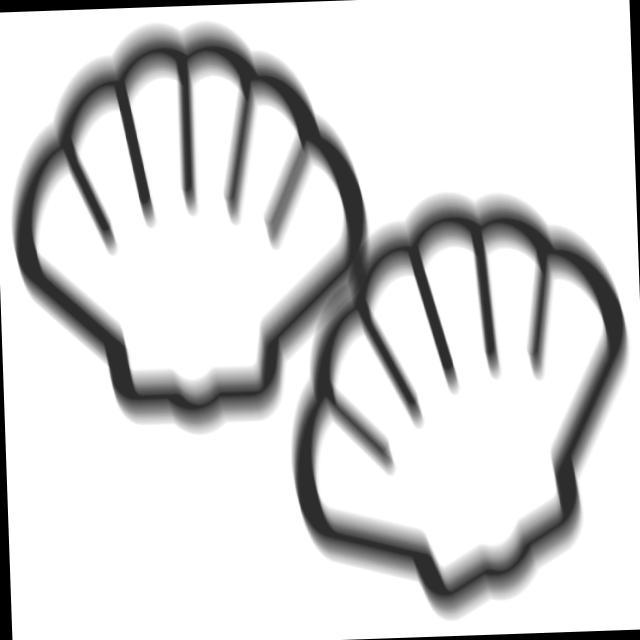shell: (1, 7, 382, 443), (276, 180, 640, 634)
